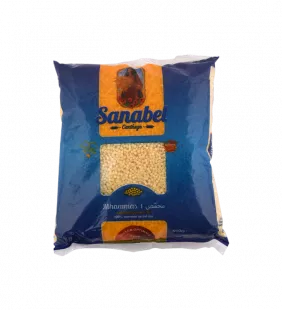SANABEL CARTHAGE: (44, 44, 236, 267)
